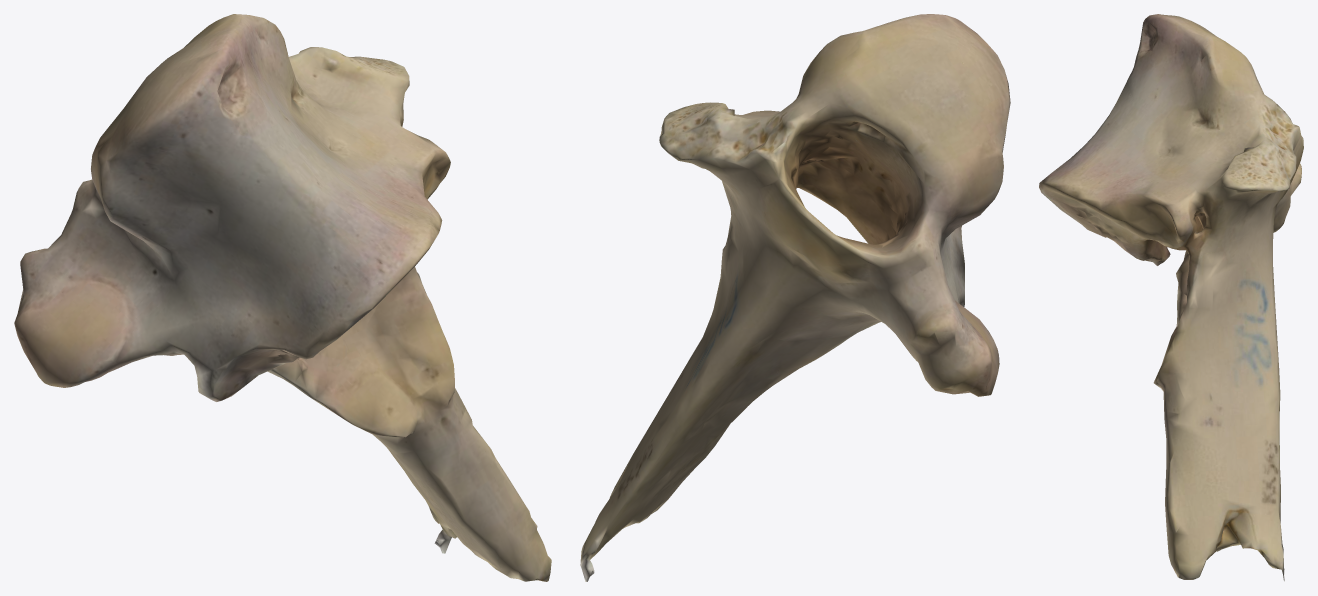
Rendered from vertebra_thoracic.glb.
3 views of the same model, side by side, from view 1: azimuth 30°, elevation 25°; view 2: azimuth 150°, elevation 25°; view 3: azimuth 270°, elevation 25° (orthographic). The views are drawn at different scales.
Bounding box in the file's own units: 0.0509 × 0.066 × 0.0344.
1 material, 1 textured.
